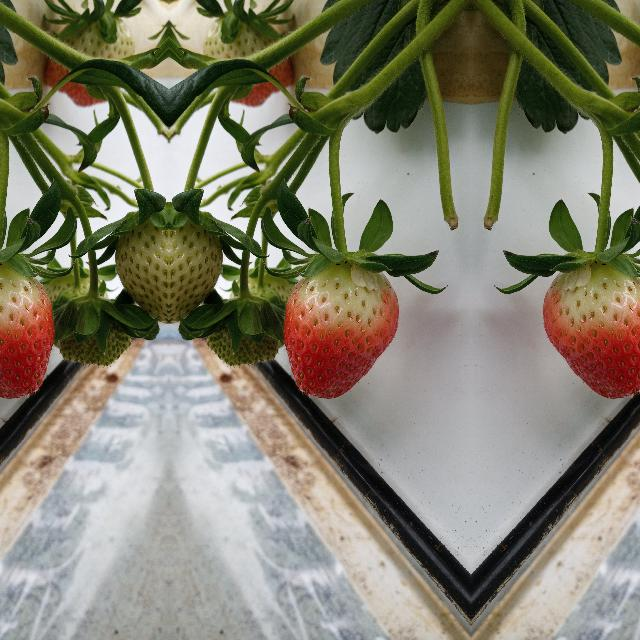Health_25: (168, 178, 220, 330), (116, 178, 168, 330)
Health_75: (281, 262, 399, 400), (542, 262, 640, 399), (0, 262, 55, 399)
